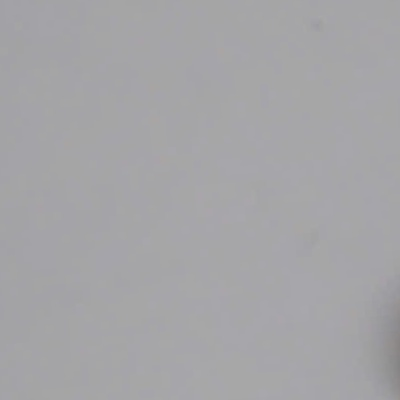mac: (159, 160, 248, 203)
